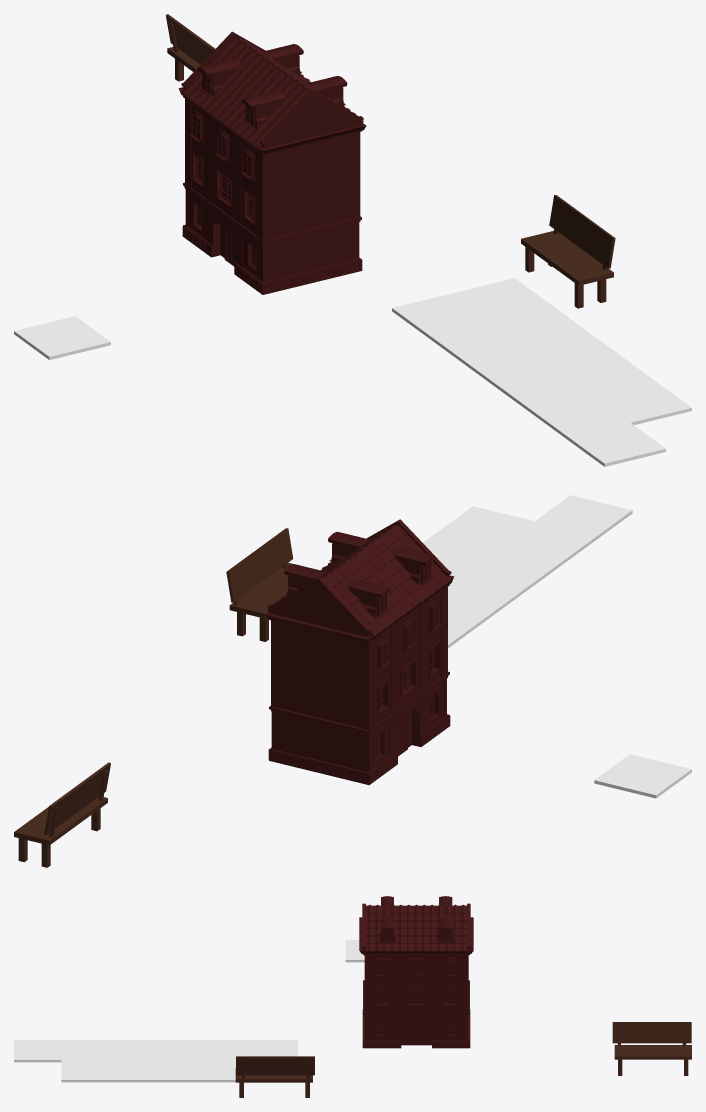
Rendered from Nieuwe Test.fbx.
3 renders of one model, top to bottom at view 1: azimuth 30°, elevation 25°; view 2: azimuth 150°, elevation 25°; view 3: azimuth 270°, elevation 25°, orthographic. The views are drawn at different scales.
Visible parts, largest first — view 1: Building1_Small, Height Road straight(Clone) (×12), bench_2_v_2(Clone) (×2); view 2: Building1_Small, Height Road straight(Clone) (×8), bench_2_v_2(Clone) (×2); view 3: Building1_Small, Height Road straight(Clone) (×11), bench_2_v_2(Clone) (×2).
Part boxes in pixels (x1=…): Building1_Small: x1=178, y1=31, x2=366, y2=294; Height Road straight(Clone) (×12): x1=14, y1=278, x2=691, y2=466; bench_2_v_2(Clone) (×2): x1=165, y1=14, x2=615, y2=308; Building1_Small: x1=264, y1=519, x2=454, y2=785; Height Road straight(Clone) (×8): x1=423, y1=495, x2=691, y2=798; bench_2_v_2(Clone) (×2): x1=14, y1=528, x2=293, y2=867; Building1_Small: x1=359, y1=896, x2=473, y2=1048; Height Road straight(Clone) (×11): x1=14, y1=940, x2=364, y2=1082; bench_2_v_2(Clone) (×2): x1=235, y1=1022, x2=691, y2=1097.
Size of what is drawn, in the model's own units: 7.9 by 3 by 14.32.
